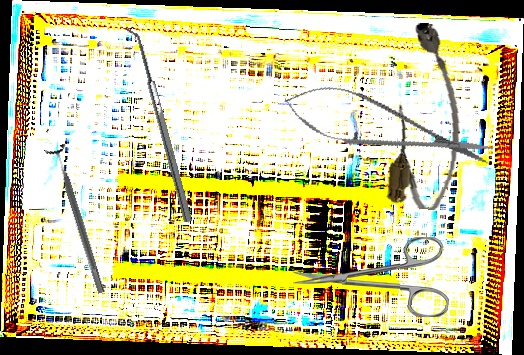Cannula: (385, 21, 472, 212)
Fixation Ring: (42, 143, 113, 297)
Iris Scissors: (292, 234, 450, 318)
Micro Scissor: (277, 74, 499, 182)
Spatula Surgical: (124, 24, 192, 225)
